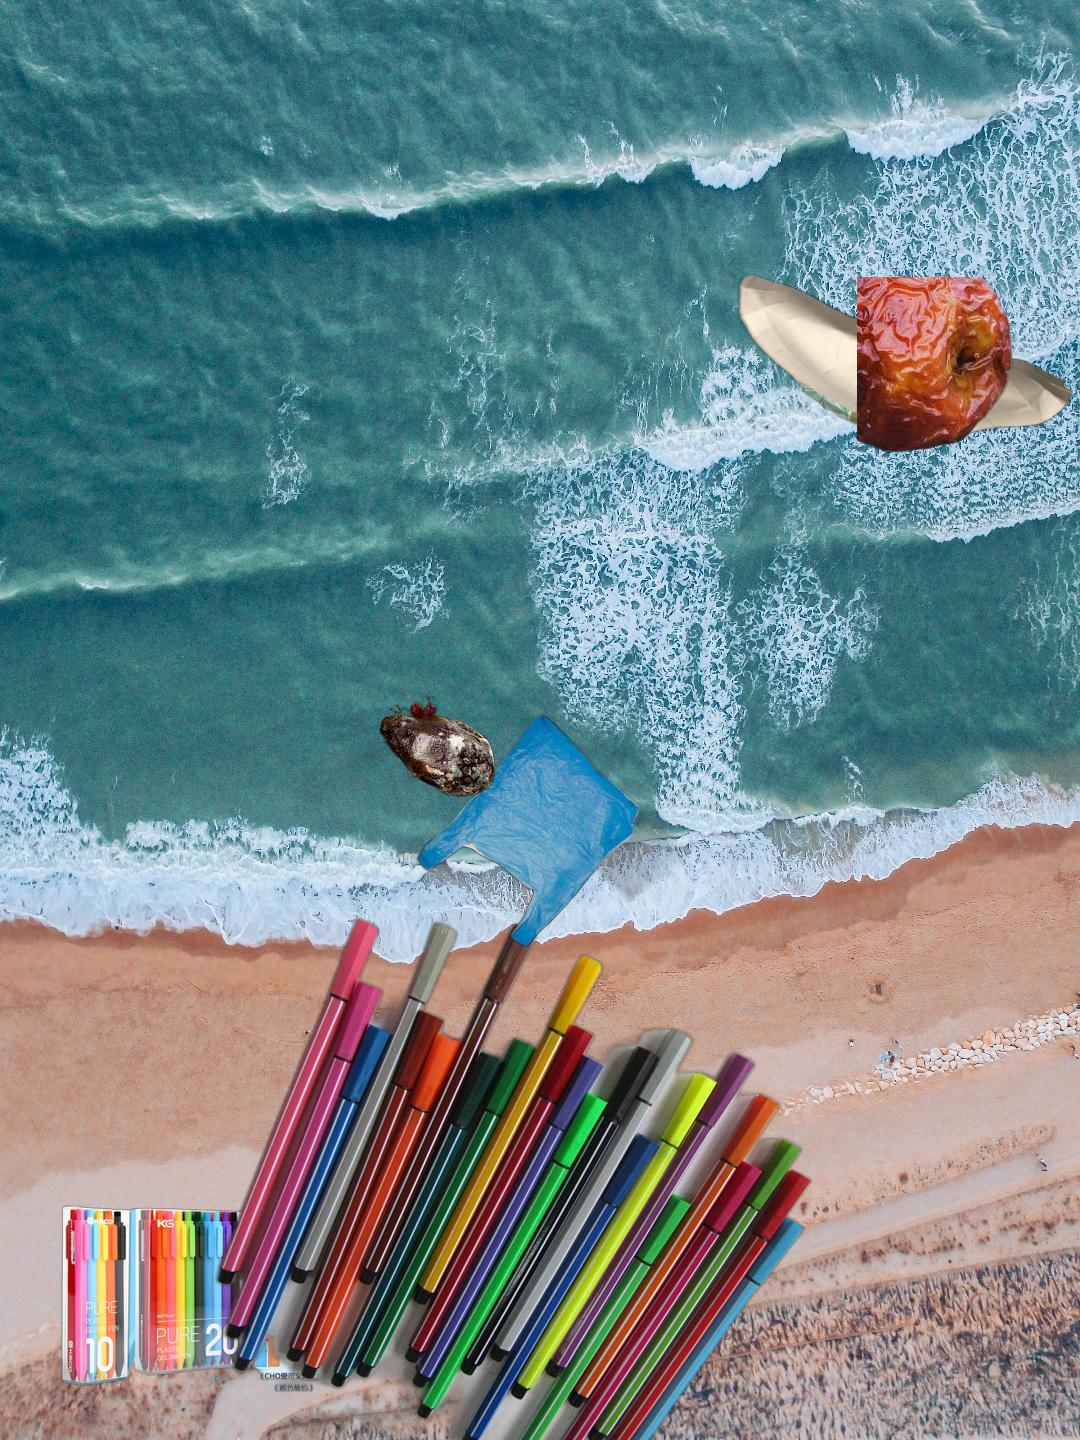biological: (279, 687, 498, 839), (857, 277, 1016, 455)
paper: (734, 272, 1077, 443)
penholder: (209, 913, 817, 1440), (58, 1202, 341, 1409)
plastic-bag: (415, 712, 692, 948), (209, 1438, 370, 1440)
